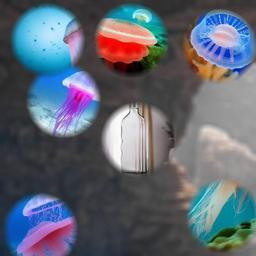not an animal: (117, 105, 153, 176)
